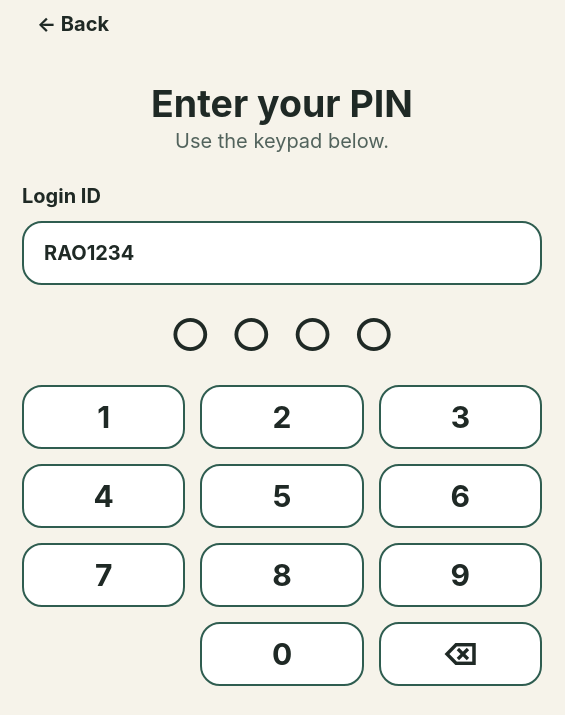
shows gentle caregiver copy when the PIN is locked
Check: the field showing "RAO1234" is shown, box [22,221,542,285]
Click the button "1" at (104, 417), box [22,385,185,449]
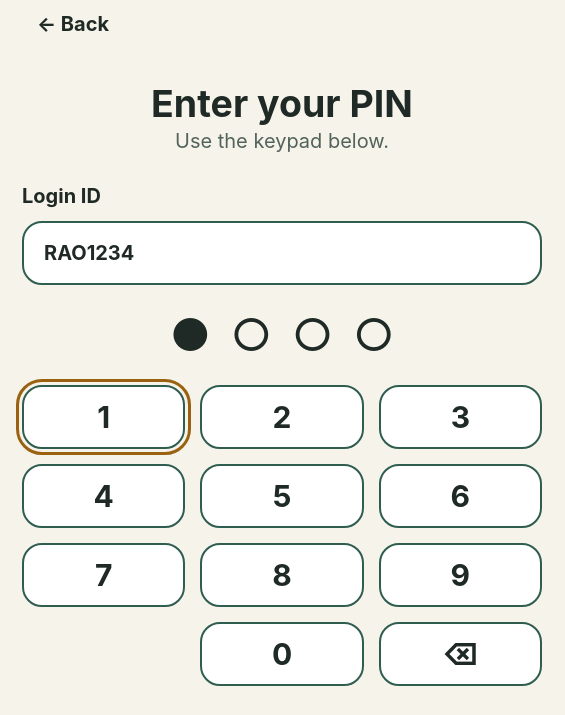
Click the button "2" at (282, 417), box [200,385,364,449]
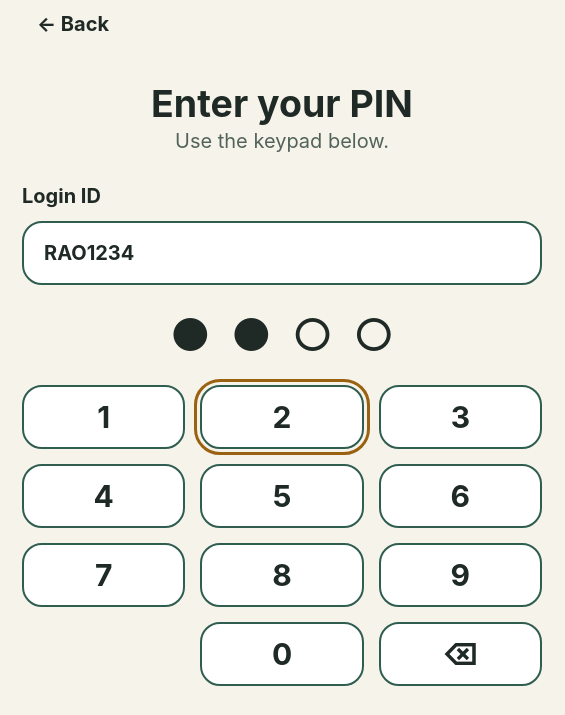
Click the button "3" at (460, 417), box [379,385,542,449]
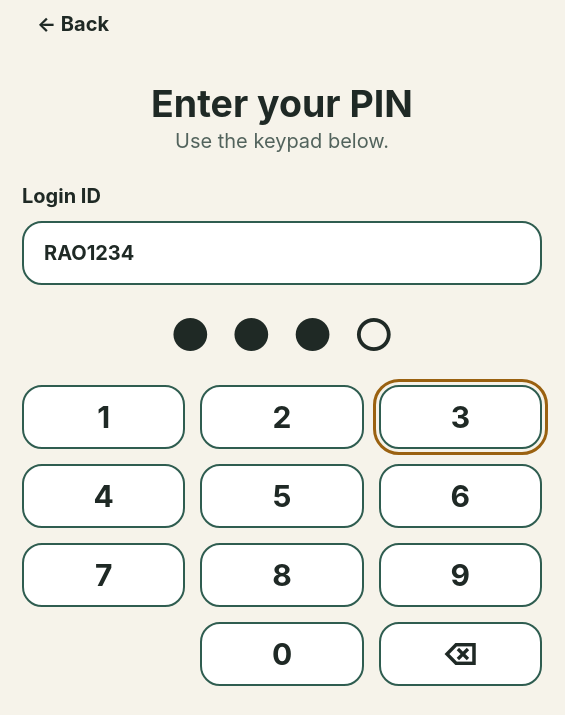
Click the button "4" at (104, 496), box [22,464,185,528]
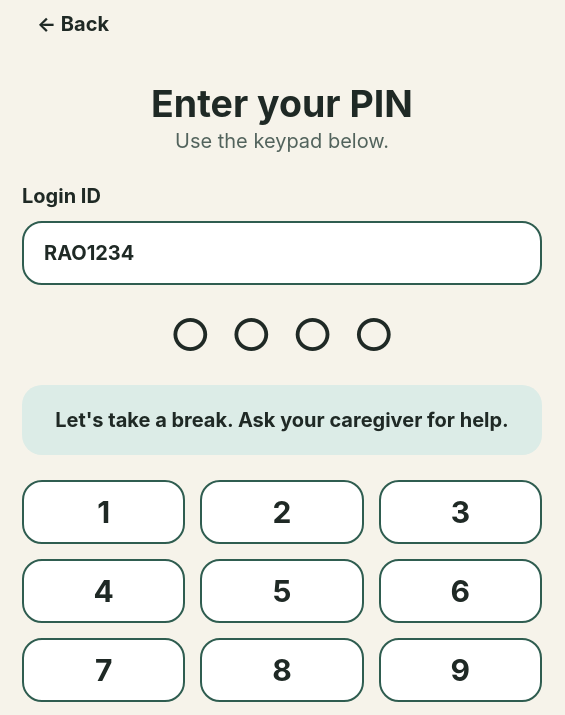
Check: the text "Let's take a break. Ask your caregiver for help." is shown, box [22,385,542,455]
